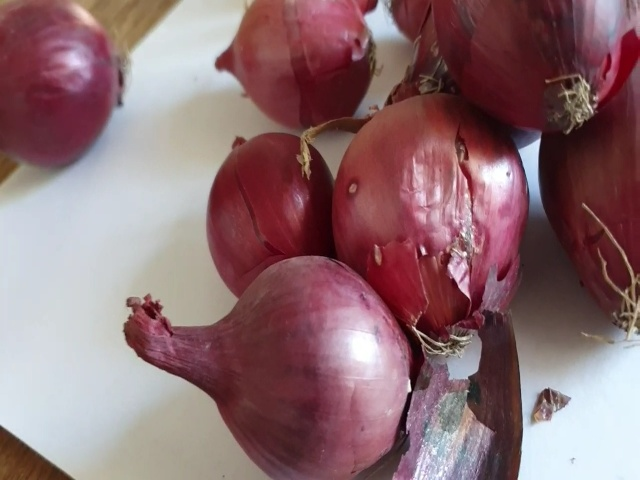red_onion: (121, 258, 420, 471), (331, 81, 525, 339), (426, 2, 627, 127), (199, 1, 380, 127), (1, 1, 130, 175), (541, 125, 639, 343), (203, 132, 330, 280)
